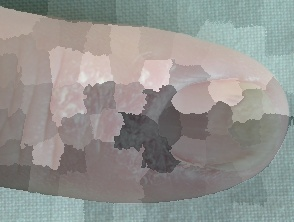Nail_psoriasis: (40, 48, 292, 201)
